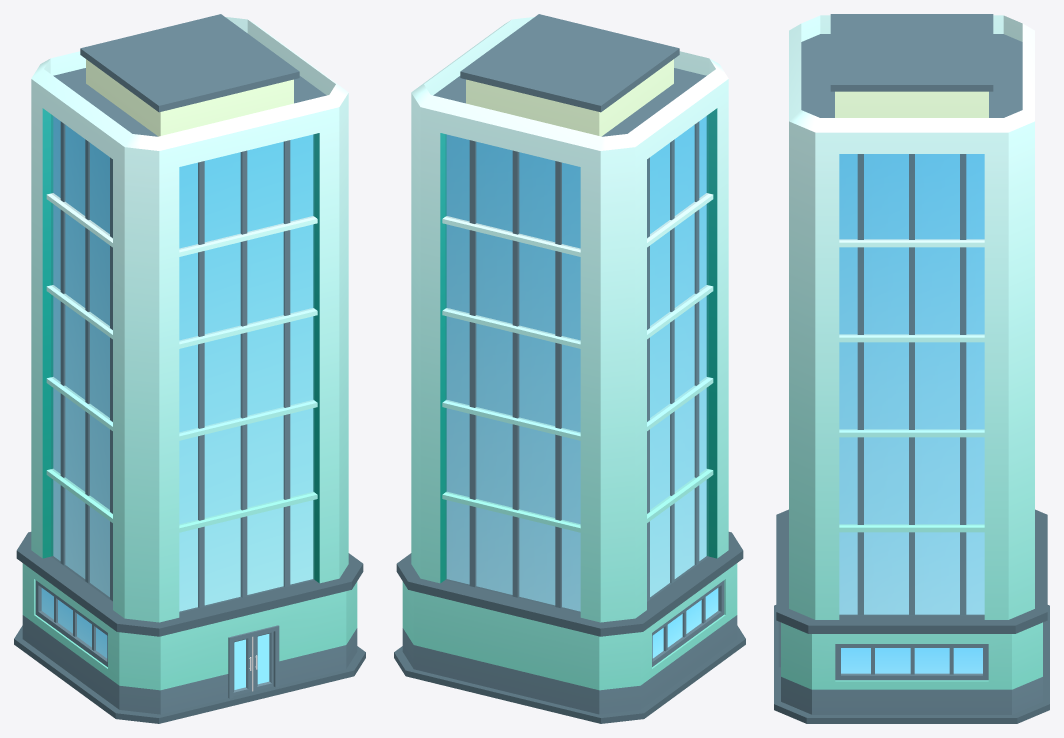
File: city2-building-living-47.glb
The picture shows the model from 3 angles, left to right: view 1: azimuth 30°, elevation 25°; view 2: azimuth 150°, elevation 25°; view 3: azimuth 270°, elevation 25°; orthographic projection. The views are drawn at different scales.
Visible parts, largest first — view 1: Building_Living_47; view 2: Building_Living_47; view 3: Building_Living_47.
Part boxes in pixels (box(x1,y1,x2,y2)): Building_Living_47: box(14, 14, 365, 723); Building_Living_47: box(394, 14, 745, 723); Building_Living_47: box(774, 14, 1049, 723).
Size of the model in its own units: 9.99 by 22.58 by 9.23.
2 materials, 2 textured.
